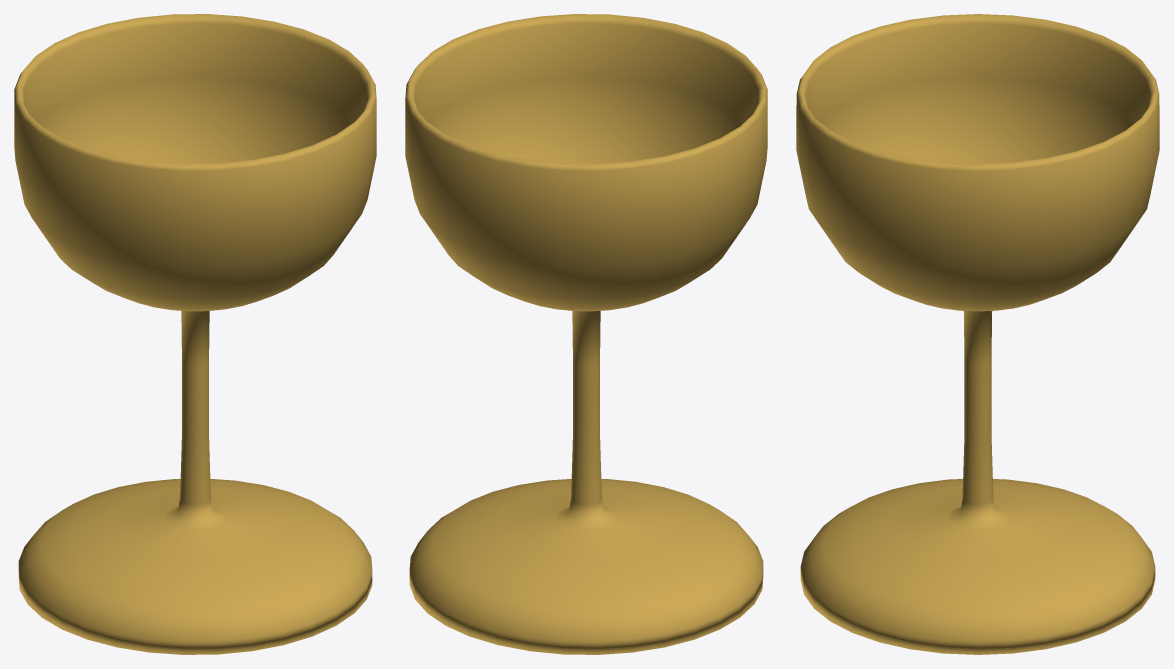
Rendered from Gold Goblet.fbx.
3 views of the same model, side by side, from view 1: azimuth 30°, elevation 25°; view 2: azimuth 150°, elevation 25°; view 3: azimuth 270°, elevation 25° (orthographic).
Visible parts, largest first — view 1: Gold Goblet; view 2: Gold Goblet; view 3: Gold Goblet.
Part boxes in pixels (box(x1,y1,x2,y2)): Gold Goblet: box(14, 14, 376, 654); Gold Goblet: box(405, 14, 767, 654); Gold Goblet: box(796, 14, 1159, 654).
Bounding box in the file's own units: 205 × 205 × 306.
